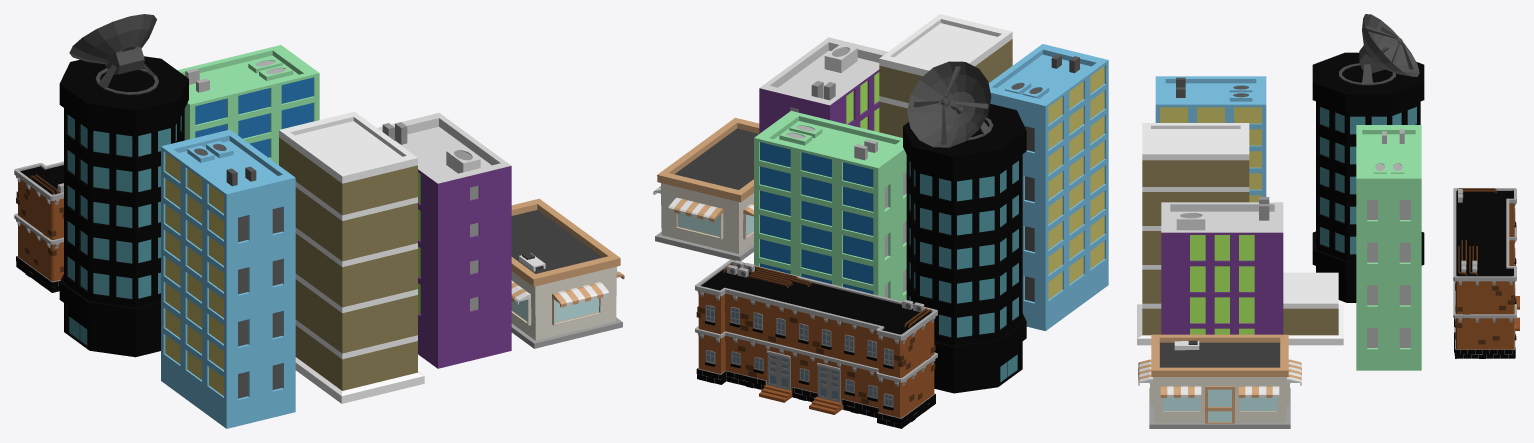
The model's file is BuildingsNearCarDealer.fbx.
3 renders of one model, left to right at view 1: azimuth 30°, elevation 25°; view 2: azimuth 150°, elevation 25°; view 3: azimuth 270°, elevation 25°, orthographic. The views are drawn at different scales.
Visible parts, largest first — view 1: City_001_Building_017.002, Skyscraper2.001, Object_27.001, City_001_Building_015.001, Shop_Cube.003, City_001_Building_017.001, 2Story_Wide_2Doors_Mat_Cube.018; view 2: Object_27.001, 2Story_Wide_2Doors_Mat_Cube.018, City_001_Building_017.001, City_001_Building_017.002, Shop_Cube.003, City_001_Building_015.001, Skyscraper2.001; view 3: City_001_Building_015.001, City_001_Building_017.001, Skyscraper2.001, Object_27.001, Shop_Cube.003, 2Story_Wide_2Doors_Mat_Cube.018, City_001_Building_017.002.
Boxes of the visible parts, bbox=[...] form: City_001_Building_017.002: bbox=[161, 129, 295, 428]; Skyscraper2.001: bbox=[279, 111, 424, 403]; Object_27.001: bbox=[59, 14, 188, 357]; City_001_Building_015.001: bbox=[377, 113, 511, 368]; Shop_Cube.003: bbox=[511, 198, 624, 348]; City_001_Building_017.001: bbox=[177, 45, 319, 164]; 2Story_Wide_2Doors_Mat_Cube.018: bbox=[14, 161, 63, 292]; Object_27.001: bbox=[903, 61, 1026, 393]; 2Story_Wide_2Doors_Mat_Cube.018: bbox=[695, 260, 937, 428]; City_001_Building_017.001: bbox=[754, 111, 906, 301]; City_001_Building_017.002: bbox=[988, 44, 1108, 330]; Shop_Cube.003: bbox=[653, 117, 759, 261]; City_001_Building_015.001: bbox=[759, 37, 887, 133]; Skyscraper2.001: bbox=[879, 14, 1012, 137]; City_001_Building_015.001: bbox=[1161, 197, 1283, 334]; City_001_Building_017.001: bbox=[1356, 125, 1421, 370]; Skyscraper2.001: bbox=[1137, 123, 1343, 345]; Object_27.001: bbox=[1312, 14, 1424, 302]; Shop_Cube.003: bbox=[1138, 334, 1301, 428]; 2Story_Wide_2Doors_Mat_Cube.018: bbox=[1453, 188, 1519, 358]; City_001_Building_017.002: bbox=[1155, 76, 1266, 202].
Bounding box in the file's own units: 2397 × 1748 × 2197.
25 materials, 1 textured.
